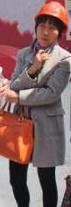boots: (0, 114, 11, 120), (0, 126, 7, 132)
hard-hat: (0, 0, 28, 19)
